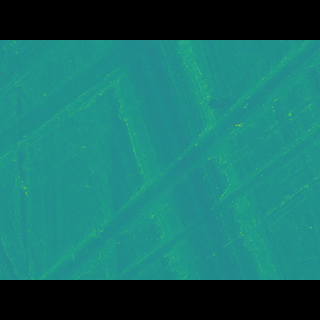Loch: (29, 69, 320, 250), (0, 68, 165, 168)
